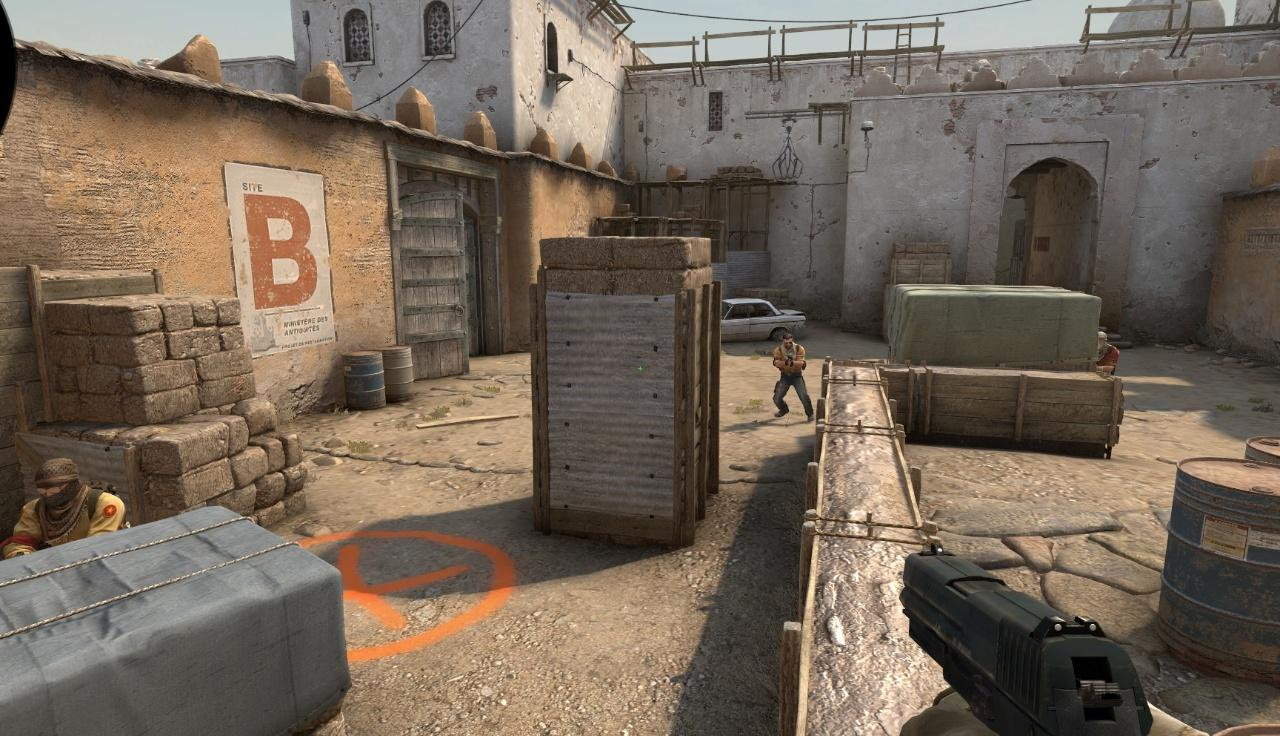pistol: (899, 542, 1214, 736)
tt: (0, 457, 127, 560), (773, 333, 815, 421), (1095, 331, 1120, 377)
tthead: (34, 459, 80, 511), (782, 333, 794, 349), (1097, 331, 1107, 348)
